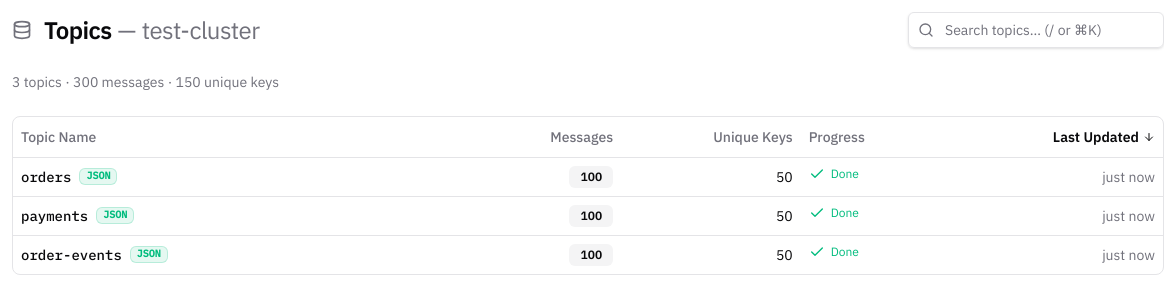
Test: TopicsPage › search input filters topics
Expected: the text "orders" is shown, [21, 166, 71, 186]
Type "order" into the field with placeholder "Search topics… (/ or ⌘K)". click: (1036, 30)
box: [908, 12, 1164, 48]
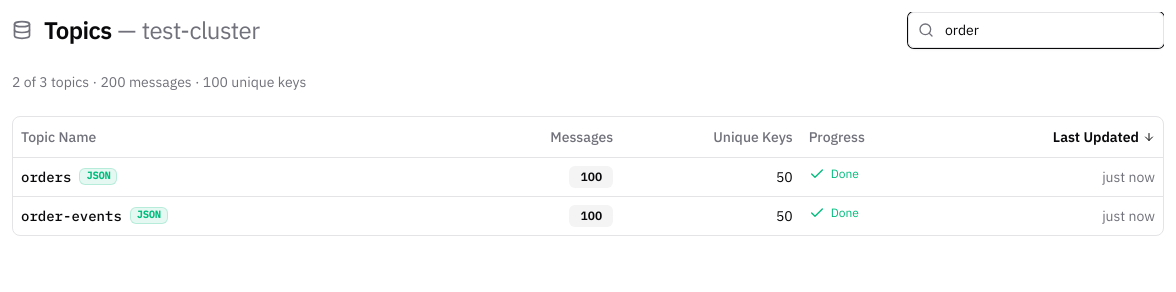
Expected: the text "orders" is shown, [21, 166, 71, 186]
Expected: the text "payments" is gone
